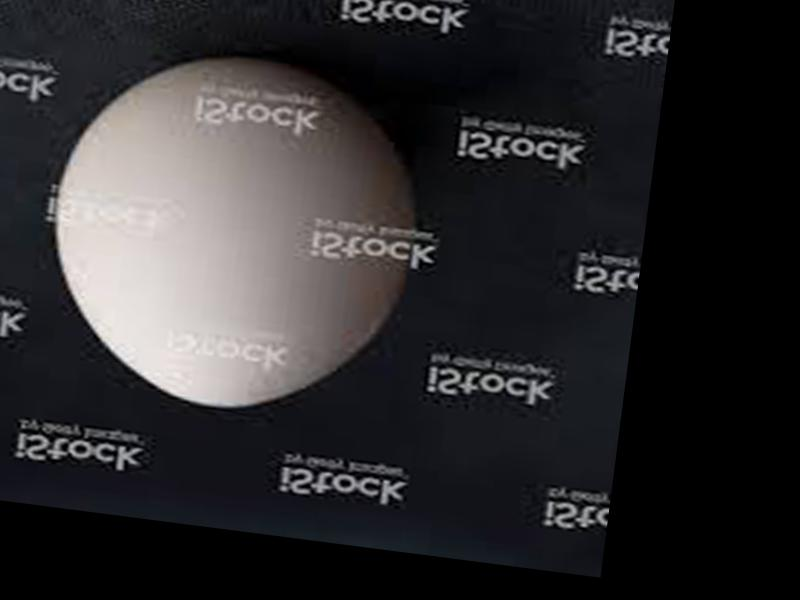Eggs: (34, 34, 435, 429)
